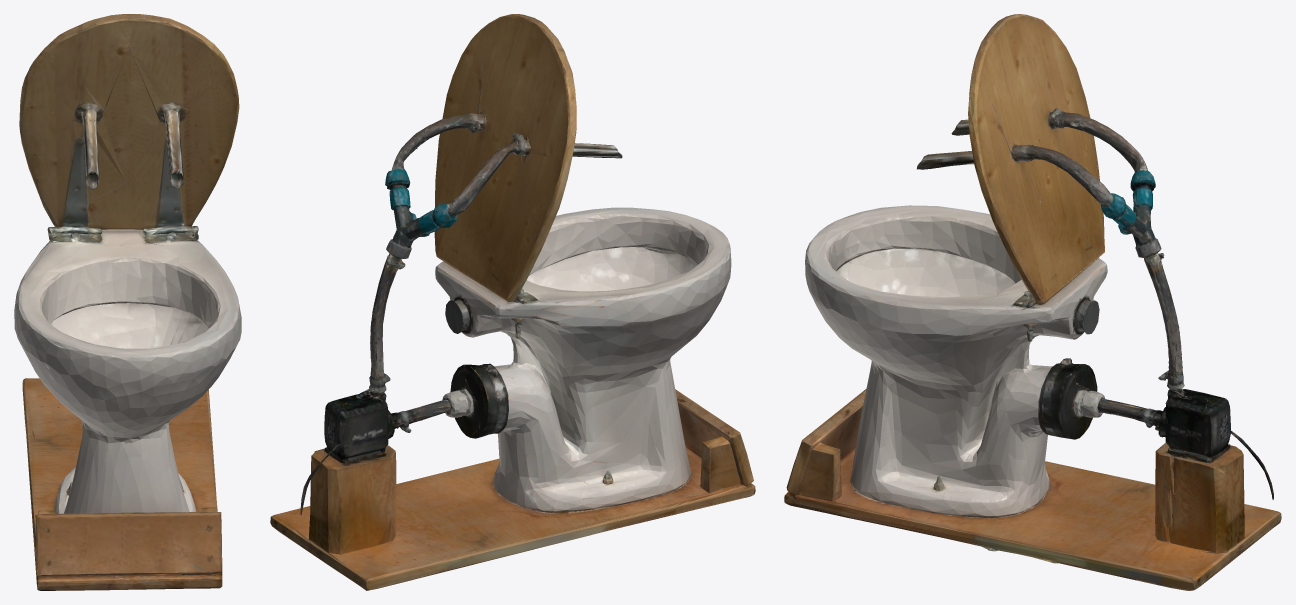
3 views of the same model, side by side, from view 1: azimuth 30°, elevation 25°; view 2: azimuth 150°, elevation 25°; view 3: azimuth 270°, elevation 25° (orthographic).
Parts seen in each view (by area): view 1: Klo_16k_1k; view 2: Klo_16k_1k; view 3: Klo_16k_1k.
Boxes of the visible parts, x1,y1,x2,y2 form: Klo_16k_1k: (14, 14, 241, 590); Klo_16k_1k: (270, 14, 755, 590); Klo_16k_1k: (784, 14, 1281, 590).
Bounding box in the file's own units: 0.6173 × 0.8753 × 0.8012.
Materials: 1 (1 with a texture image).
